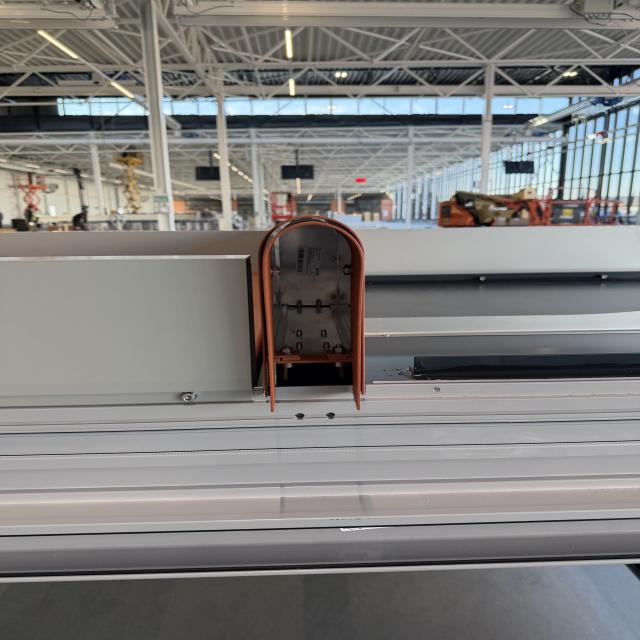vijak_nedostaje: (424, 381, 462, 400)
